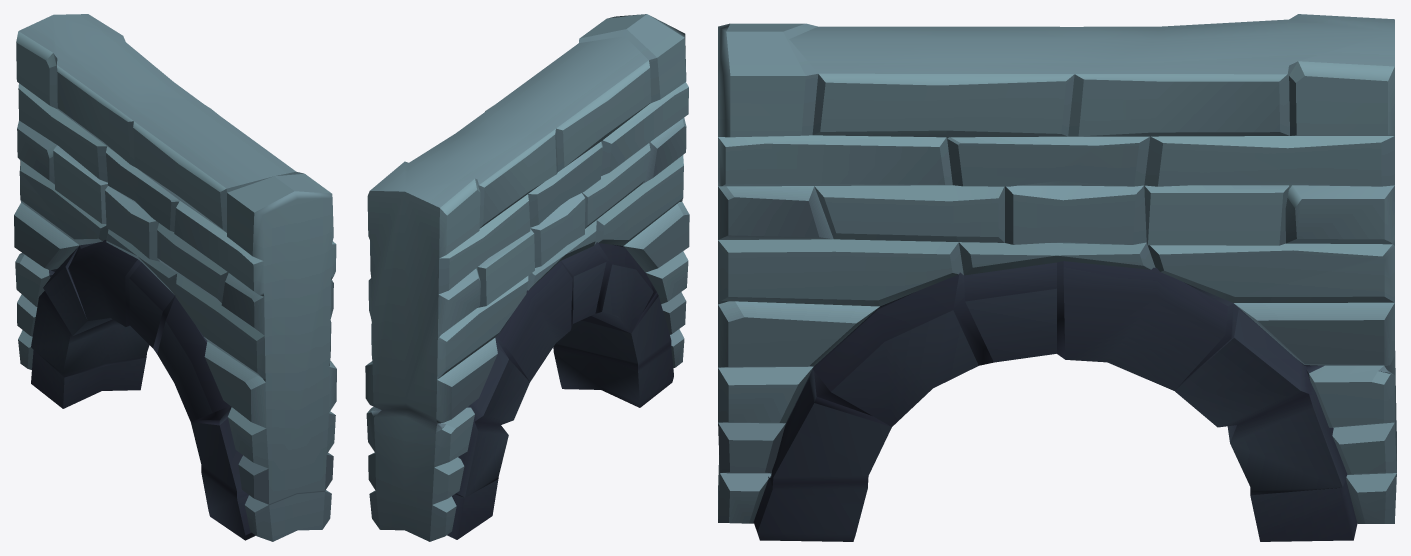
The model's file is Modular_Dungeon_Wall_Tunnel.fbx.
3 renders of one model, left to right at view 1: azimuth 30°, elevation 25°; view 2: azimuth 150°, elevation 25°; view 3: azimuth 270°, elevation 25°, orthographic. The views are drawn at different scales.
Visible parts, largest first — view 1: Wall_Tunnel; view 2: Wall_Tunnel; view 3: Wall_Tunnel.
Part boxes in pixels (x1,y1,x2,y2): Wall_Tunnel: [14, 14, 336, 541]; Wall_Tunnel: [365, 14, 689, 541]; Wall_Tunnel: [718, 14, 1396, 541].
Bounding box in the file's own units: 1.48 × 5.2 × 6.61.
1 material, 1 textured.
